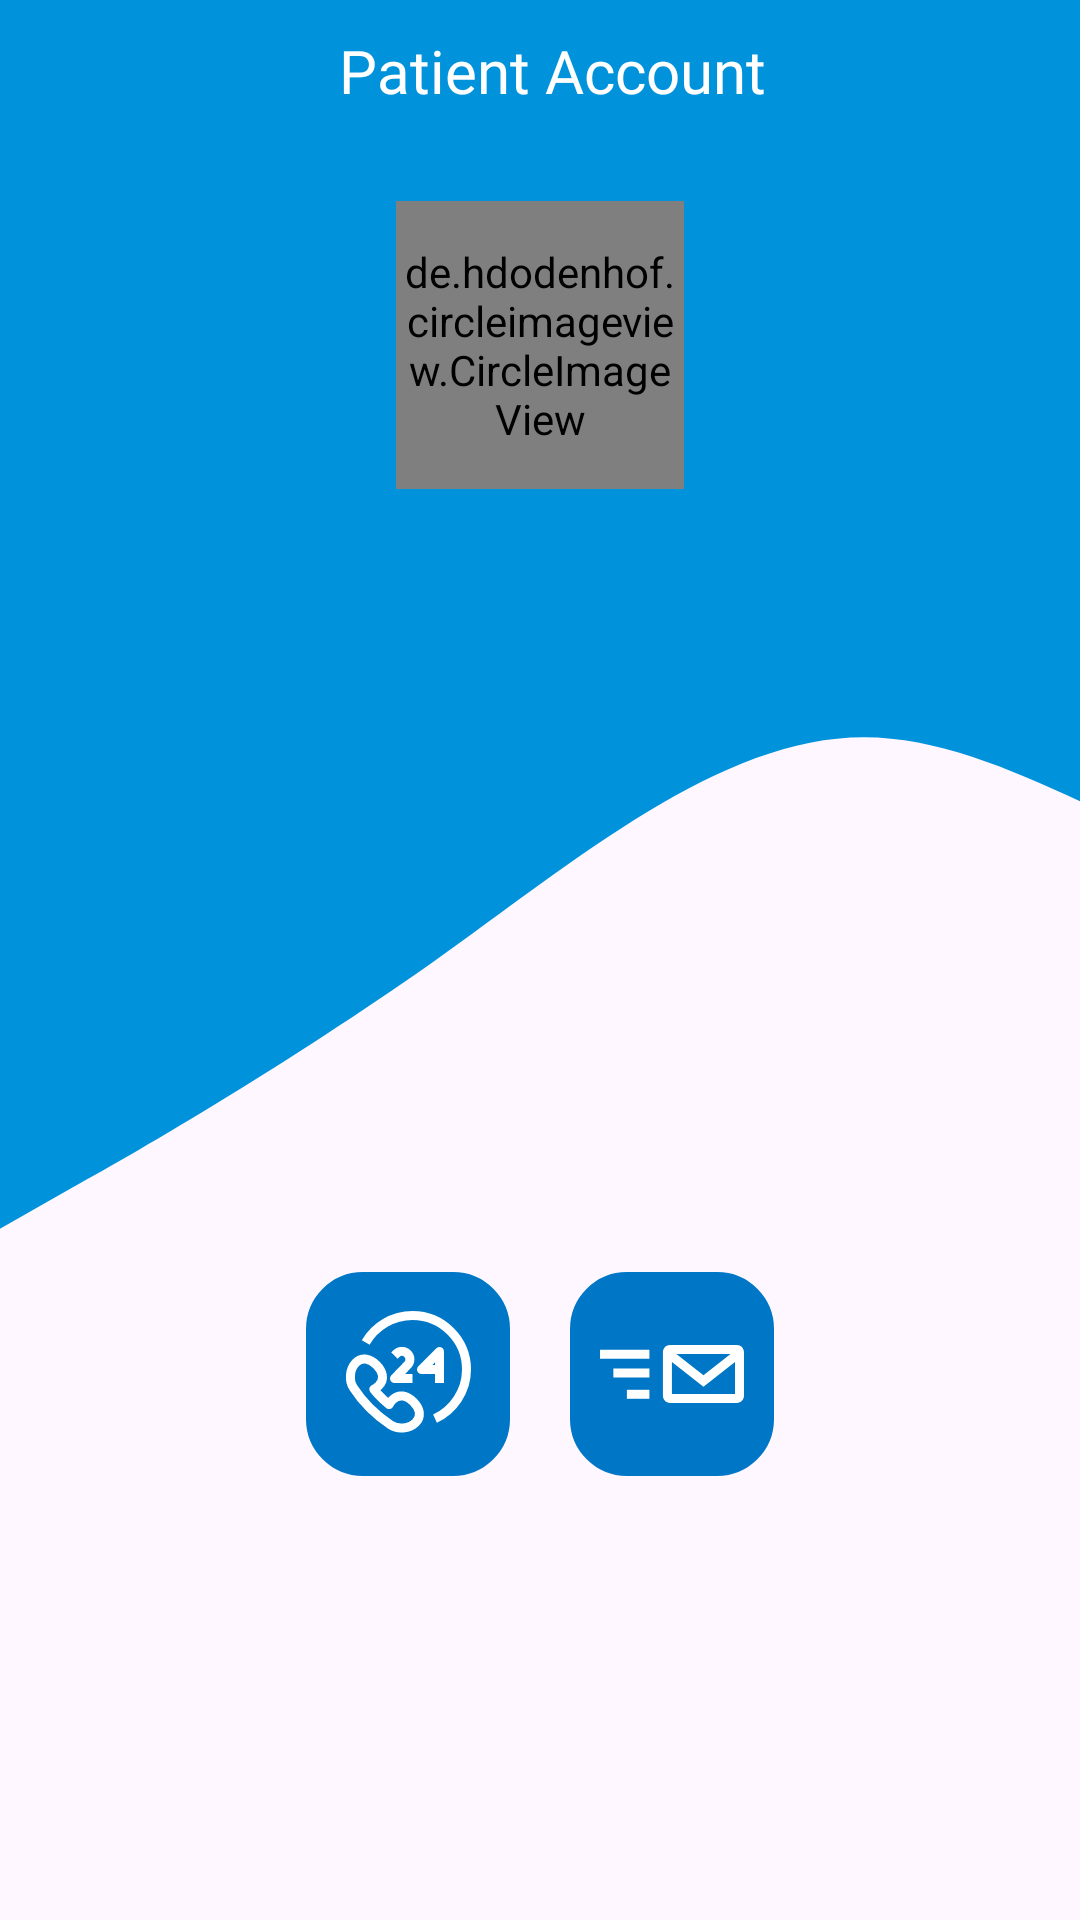

Icons on this 1080 x 1920 Android screen, each with its box as box=[x1, y1, x2, y2]:
phone call: box=[306, 1272, 510, 1476]
send email: box=[570, 1272, 774, 1476]
